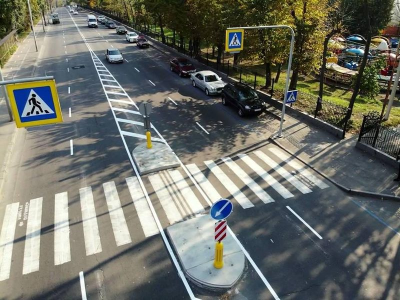crosswalk: (20, 88, 55, 119), (229, 33, 243, 48), (287, 90, 297, 102)
